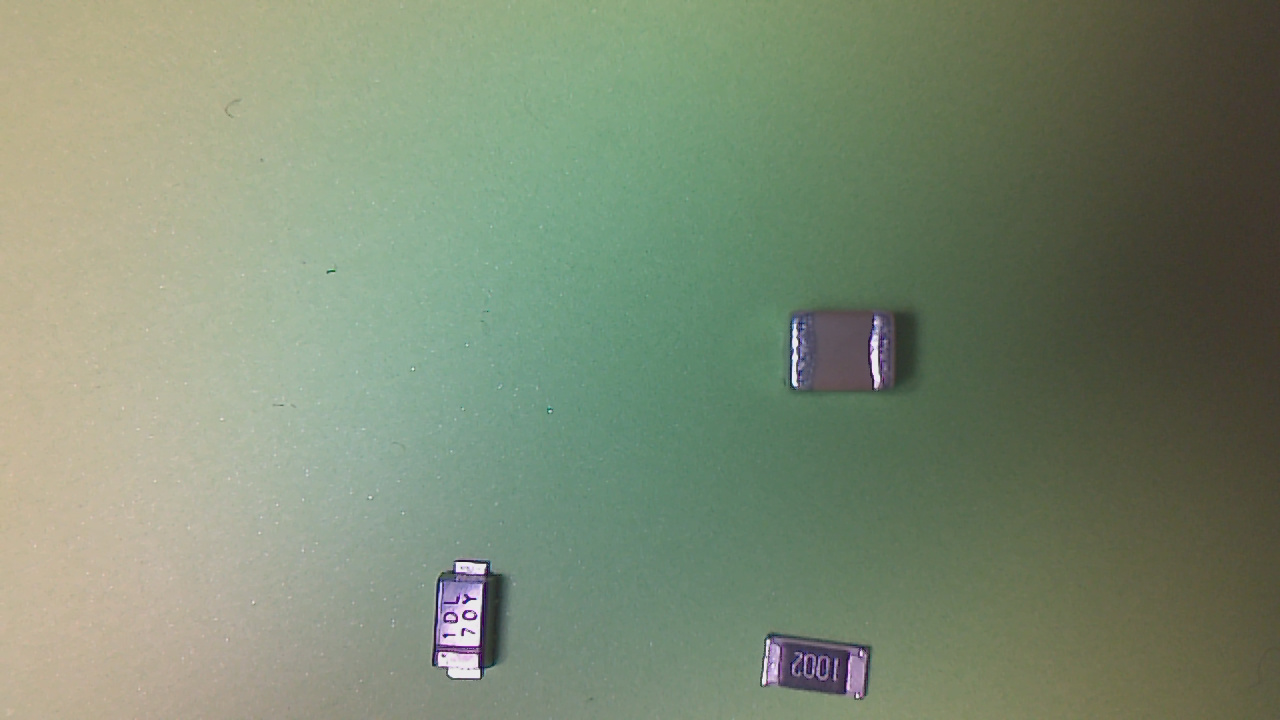Condensator: (788, 309, 906, 403)
Diode: (435, 562, 508, 686)
Resistor: (763, 635, 879, 708)
